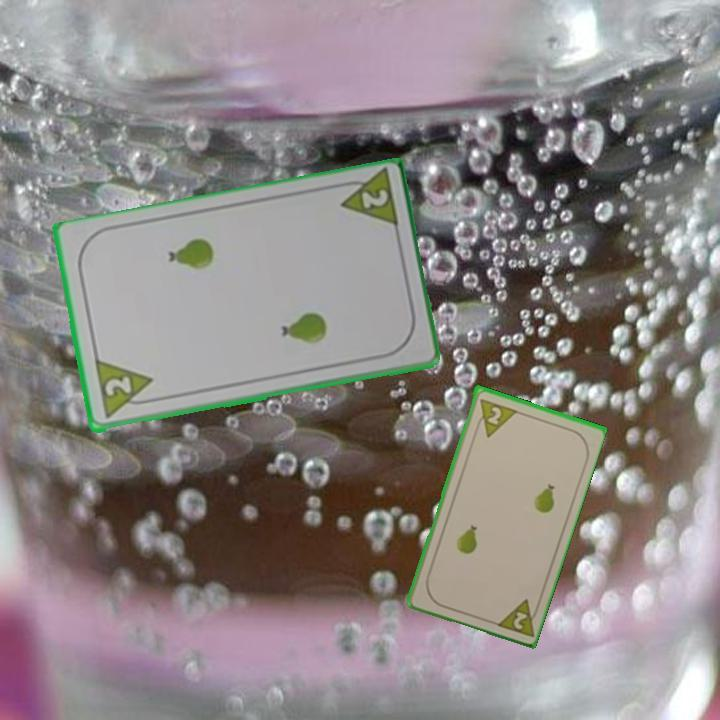2p: (91, 357, 158, 422), (491, 595, 543, 639), (470, 394, 518, 440), (357, 186, 391, 212)
